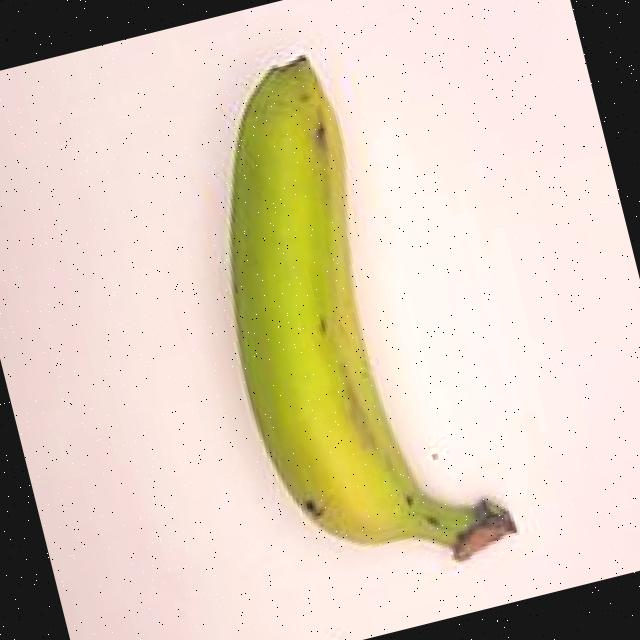Unripe: (144, 0, 543, 605)
